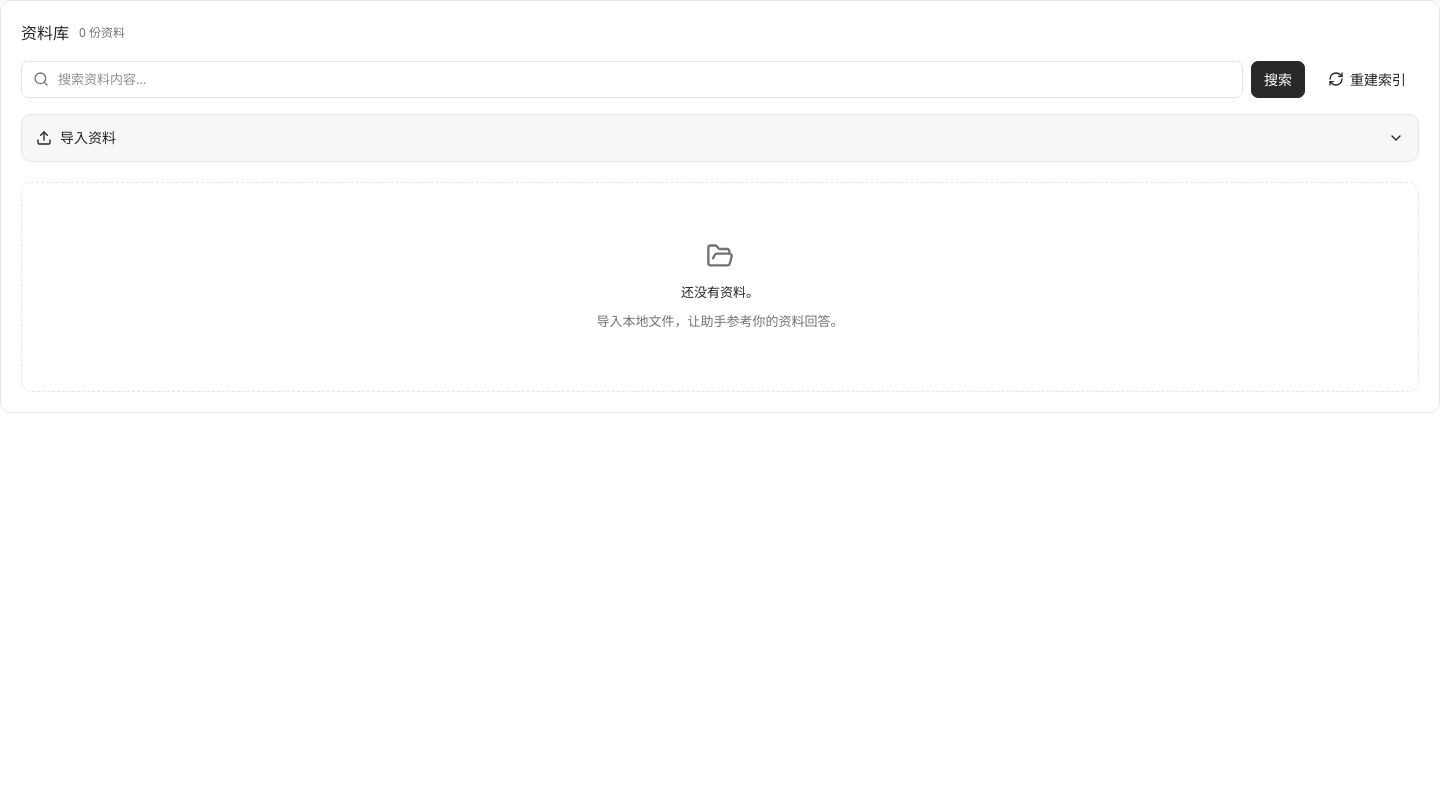
Test: MaterialsLibrary › shows a distinct empty search result after a successful search
Expected: the text "还没有资料。" is shown, 681,282 -> 759,303
Expected: the element "检索结果" is not shown
Type "无匹配内容" into the field named "检索词".
click(632, 79); type("无匹配内容")  # box 21,61 -> 1243,98
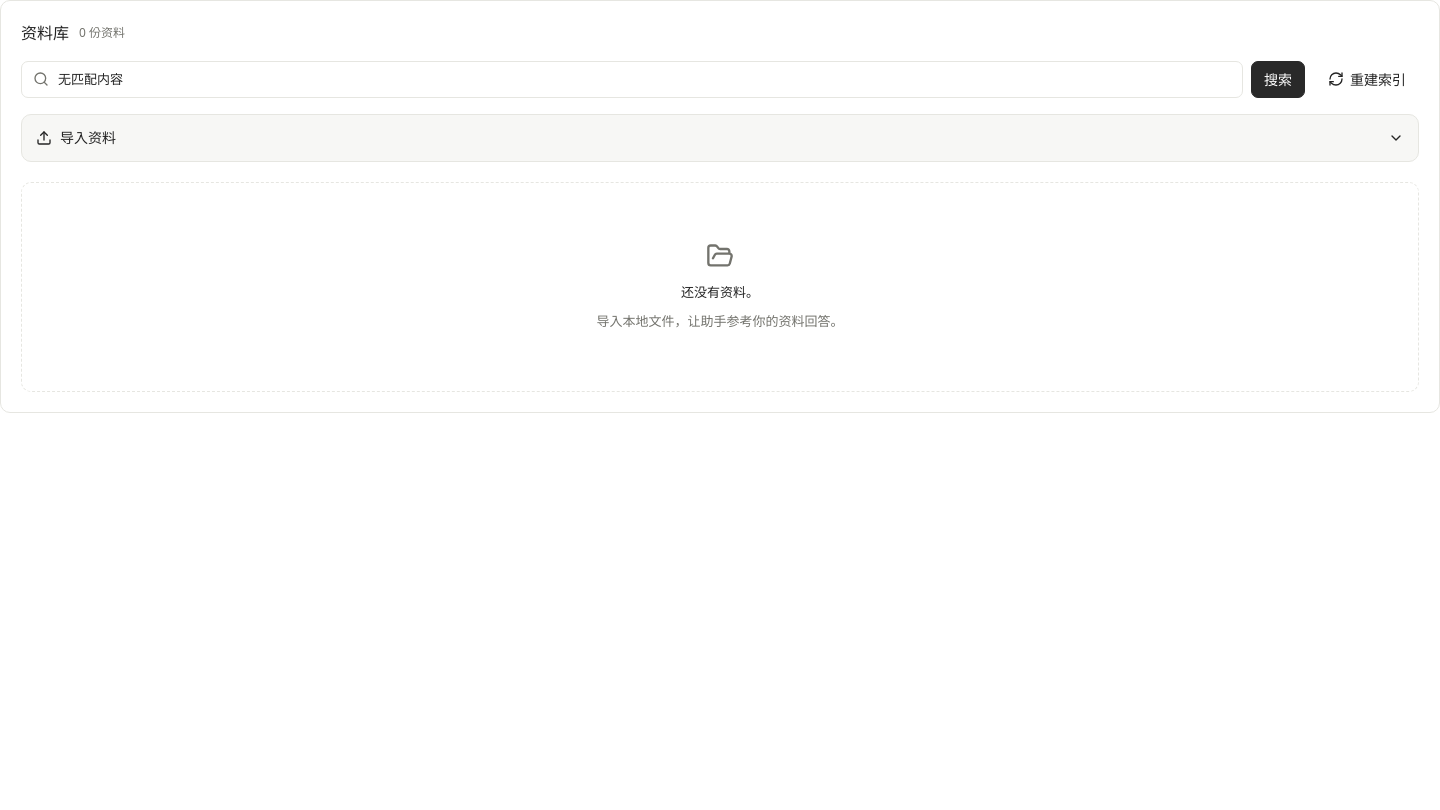
Click the button "搜索".
click(1278, 79)  # box 1251,61 -> 1305,98
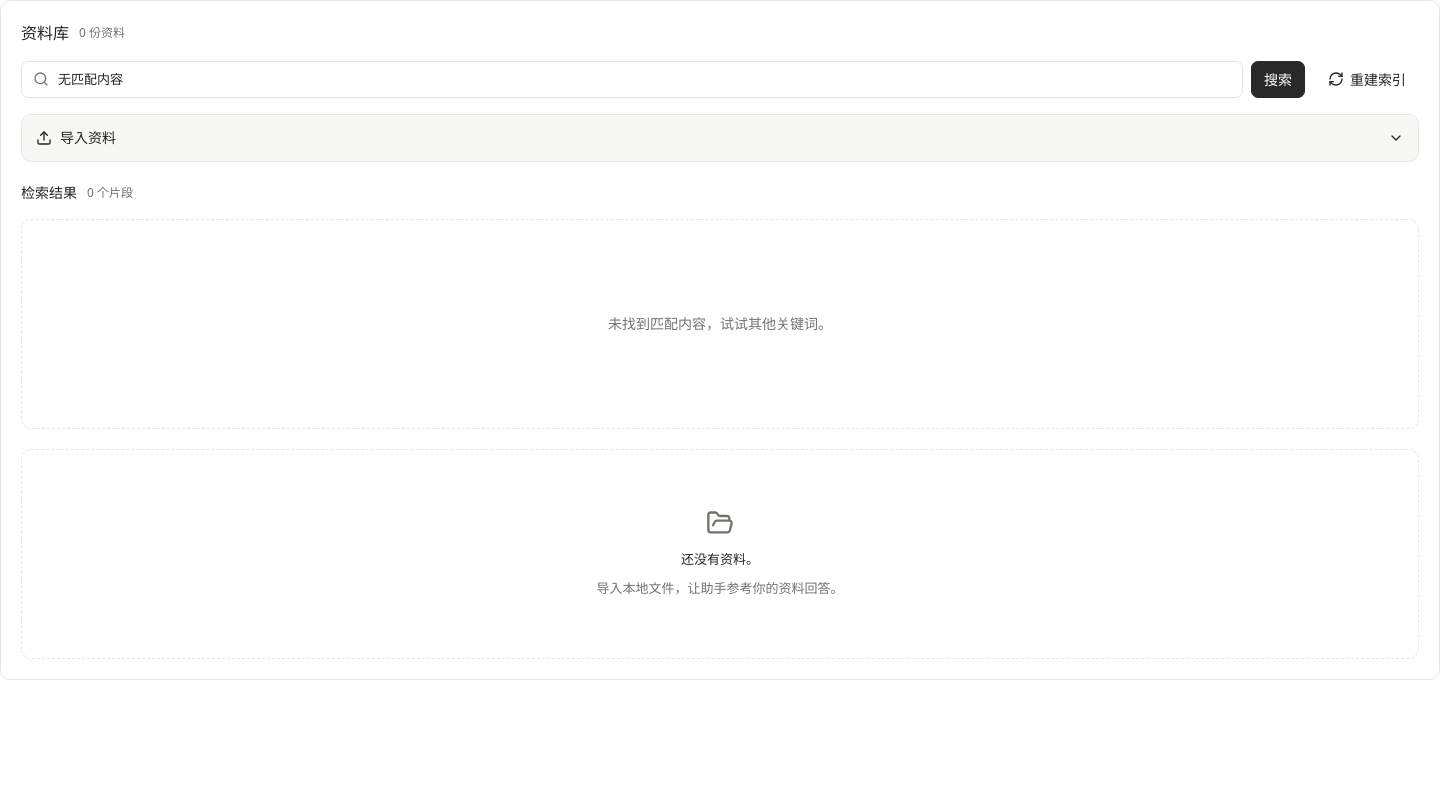
Now the text "未找到匹配内容，试试其他关键词。" is shown, box 21,219 -> 1419,429
Now the element "检索结果" is shown, box 21,182 -> 1419,429
